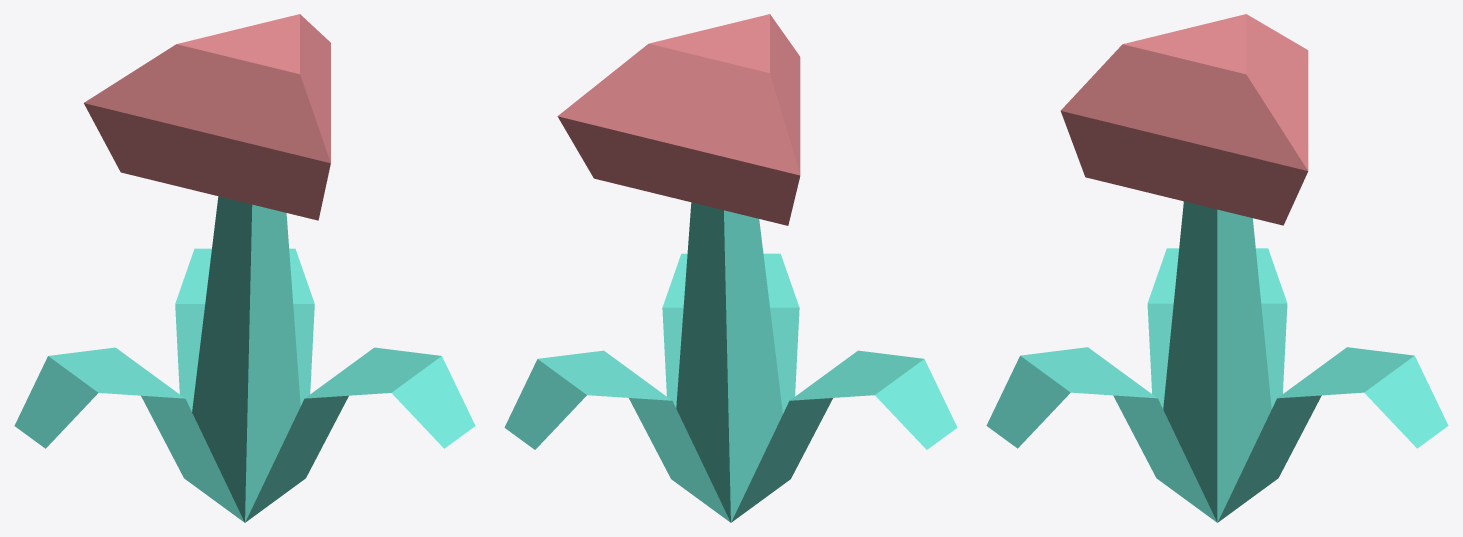
The model's file is flower_redB.glb.
3 renders of one model, left to right at view 1: azimuth 30°, elevation 25°; view 2: azimuth 150°, elevation 25°; view 3: azimuth 270°, elevation 25°, orthographic.
Parts seen in each view (by area): view 1: flower_redB; view 2: flower_redB; view 3: flower_redB.
Part boxes in pixels (box(x1,y1,x2,y2)): flower_redB: box(14, 14, 475, 522); flower_redB: box(504, 14, 957, 522); flower_redB: box(986, 14, 1448, 522).
Size of the model in its own units: 0.2073 by 0.2585 by 0.2392.
Materials: 1 (1 with a texture image).
